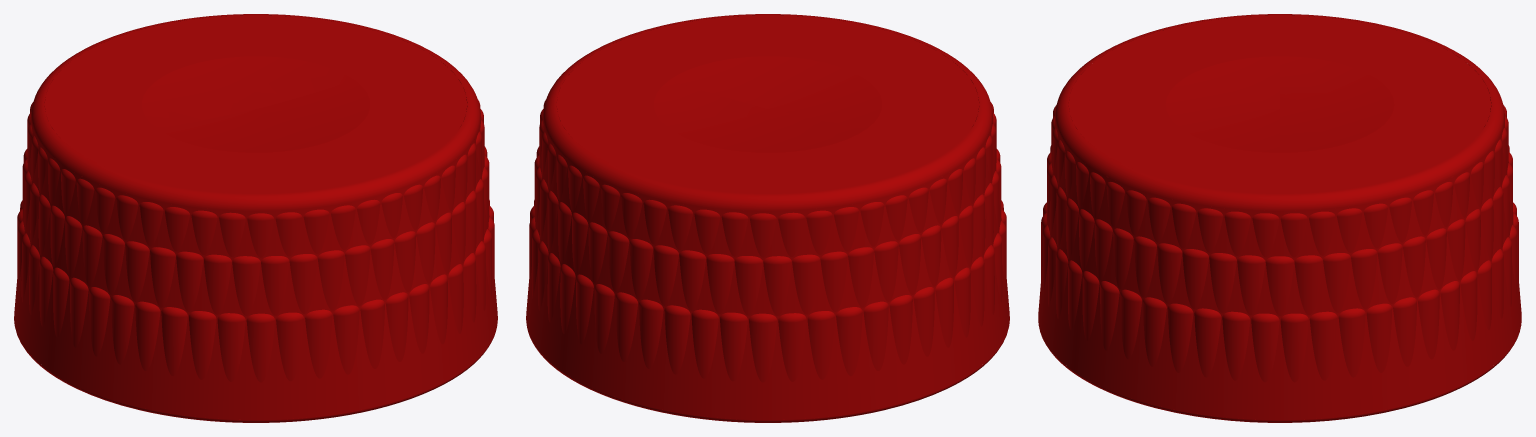
Rendered from TearsBowlbigproduct.glb.
3 views of the same model, side by side, from view 1: azimuth 30°, elevation 25°; view 2: azimuth 150°, elevation 25°; view 3: azimuth 270°, elevation 25° (orthographic).
Size of the model in its own units: 0.1058 by 0.0526 by 0.1058.
